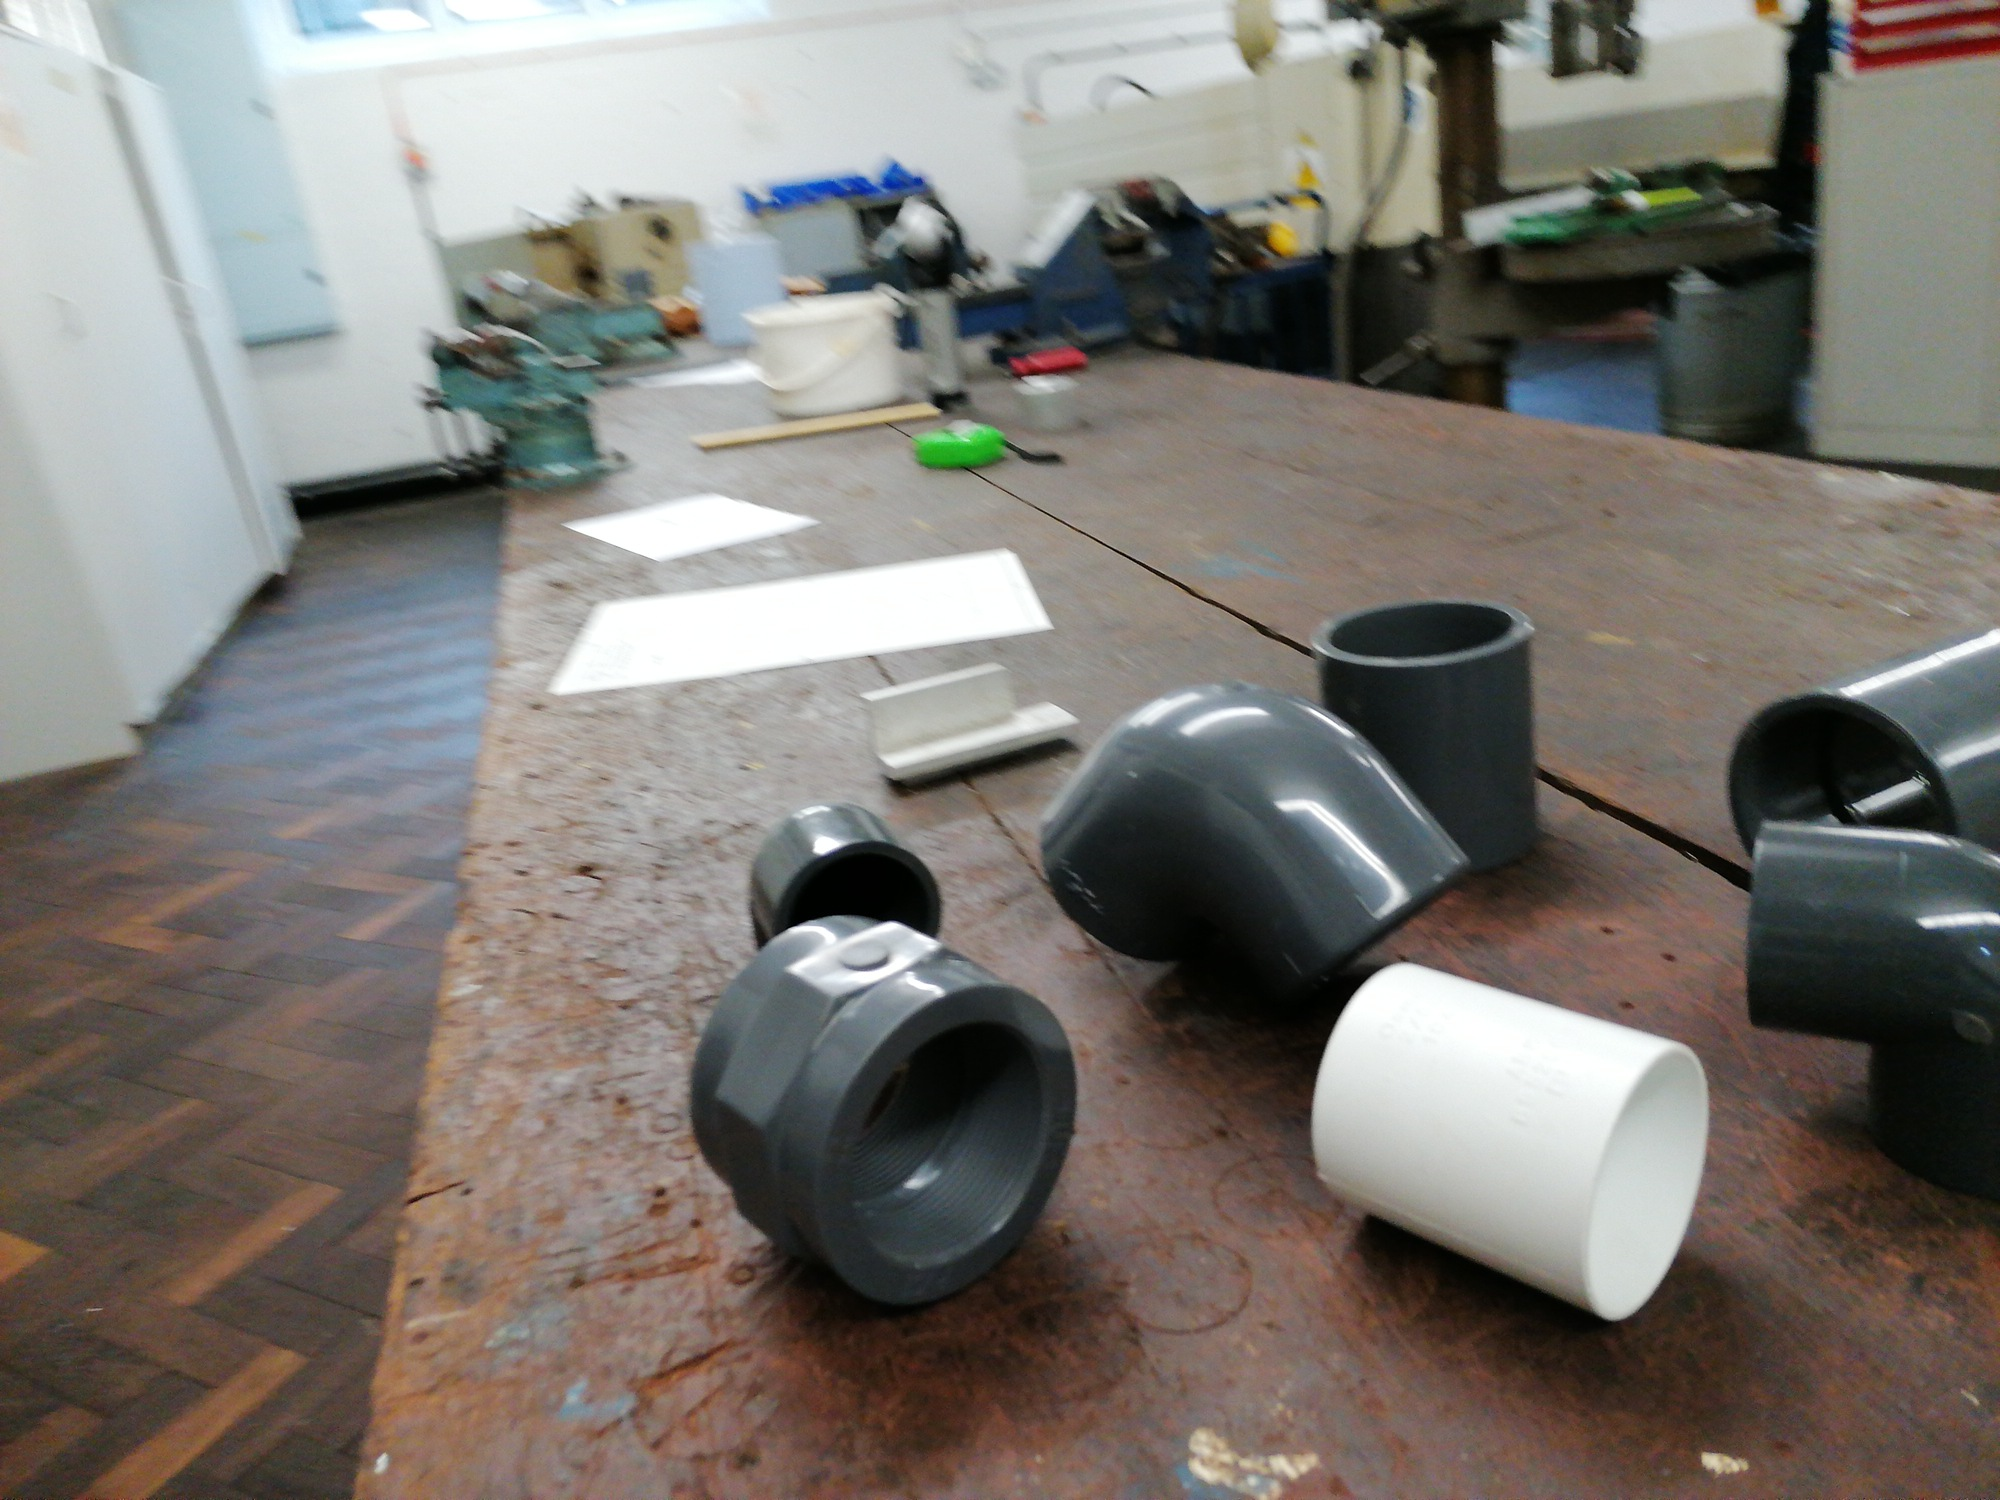nut: (688, 912, 1079, 1309)
pipe: (1304, 960, 1713, 1320), (1039, 678, 1476, 999), (1740, 811, 1998, 1207), (1724, 603, 1997, 863), (1309, 592, 1539, 873), (746, 799, 942, 950)
